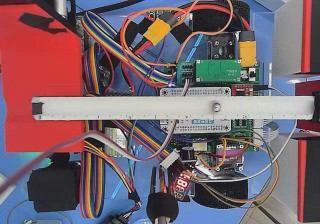ironball: (211, 101, 220, 113)
